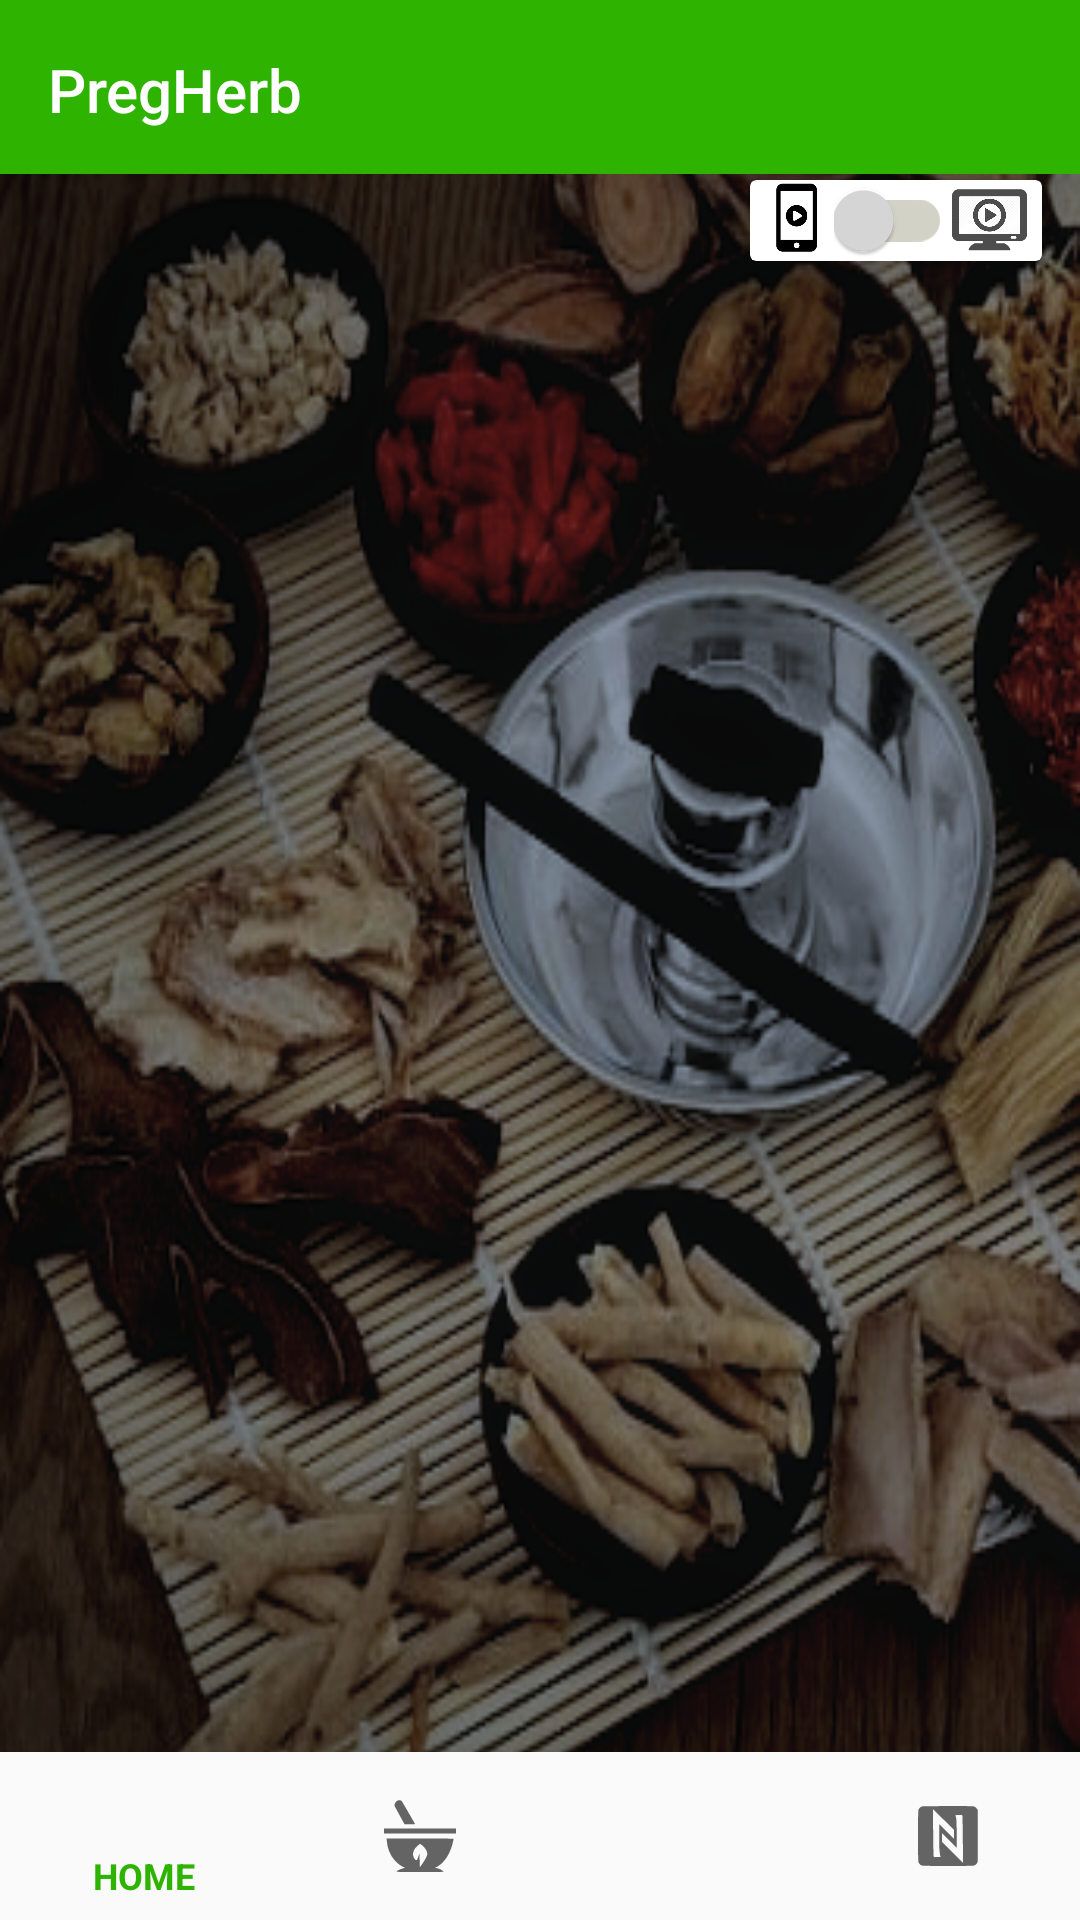

Point at icon controls on the screen. Image size 1080px×1920px, points as (x,y).
smartphone: (796,217)
